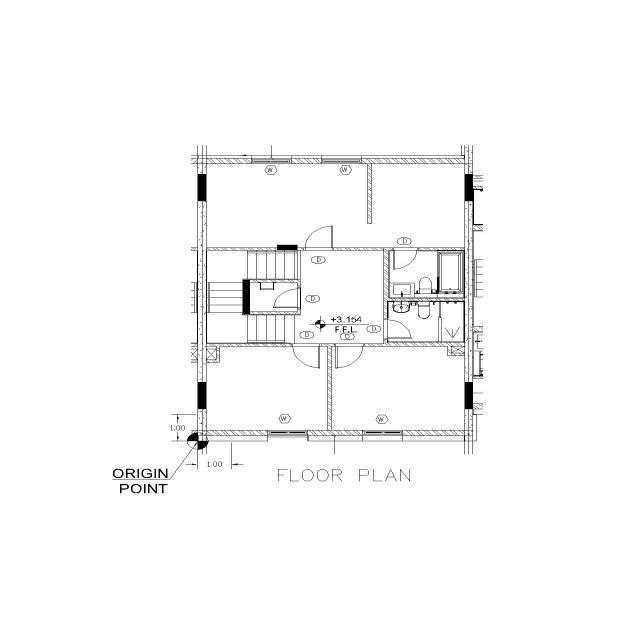Column: (242, 278, 252, 316), (196, 173, 208, 202), (196, 381, 208, 410), (464, 173, 474, 202), (464, 381, 474, 410), (276, 244, 298, 251)
Door: (383, 317, 389, 340), (296, 287, 302, 310), (302, 247, 334, 251), (334, 343, 366, 347), (290, 343, 320, 347), (392, 247, 419, 251)
Staircase: (206, 249, 330, 344)
Window: (249, 154, 293, 166), (320, 154, 364, 166), (266, 429, 310, 438), (361, 429, 405, 437)
